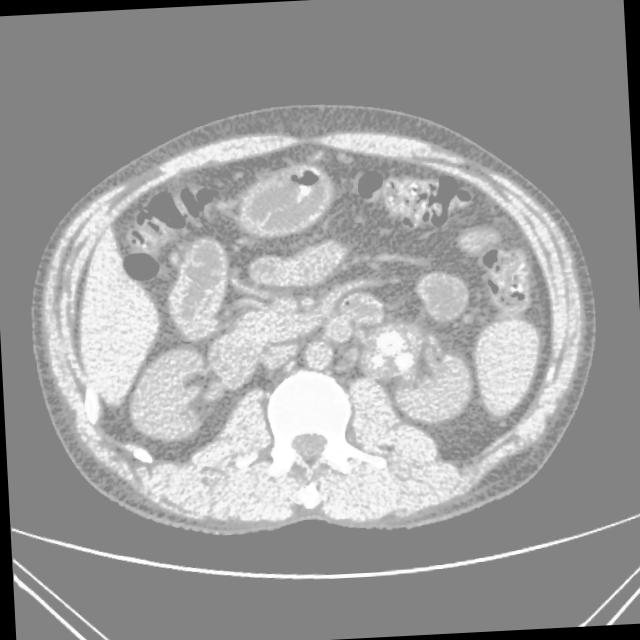STONE: (102, 104, 543, 391)
